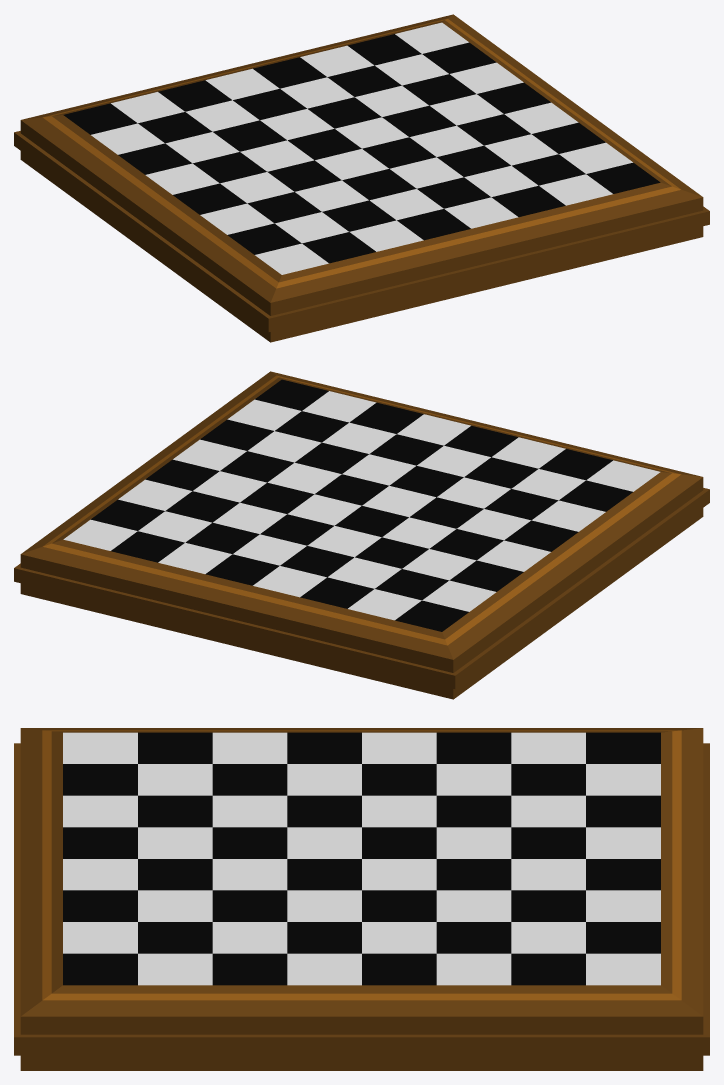
File: CHessBoardModel2.fbx
The picture shows the model from 3 angles, top to bottom: view 1: azimuth 30°, elevation 25°; view 2: azimuth 150°, elevation 25°; view 3: azimuth 270°, elevation 25°; orthographic projection. The views are drawn at different scales.
Visible parts, largest first — view 1: Cube; view 2: Cube; view 3: Cube.
Boxes of the visible parts, bbox=[...] form: Cube: bbox=[14, 14, 709, 342]; Cube: bbox=[14, 371, 709, 699]; Cube: bbox=[14, 728, 709, 1070].
Size of the model in its own units: 932 by 100 by 932.
